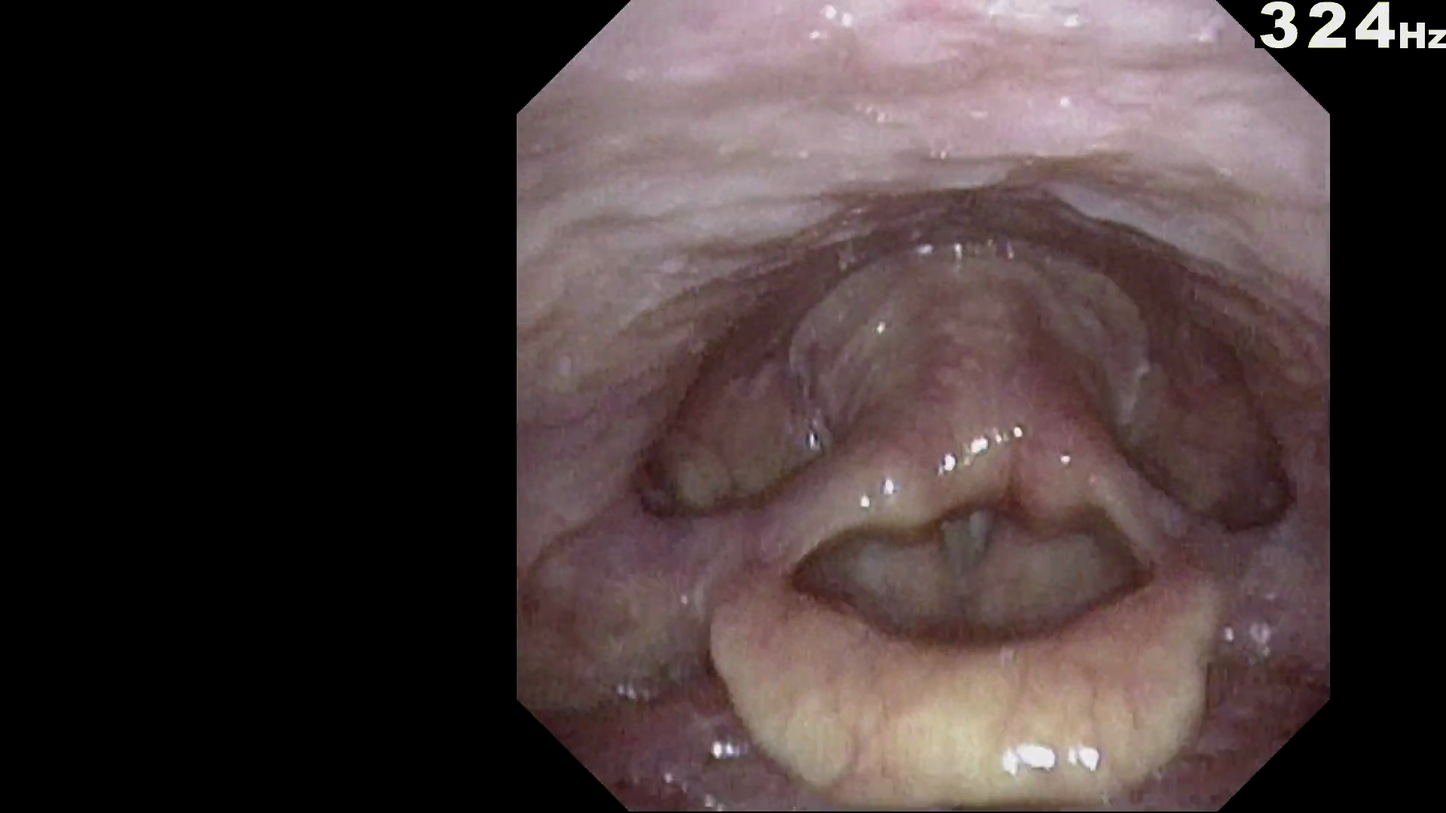epiglottis: (674, 513, 1271, 781)
trachea: (925, 487, 1012, 577)
